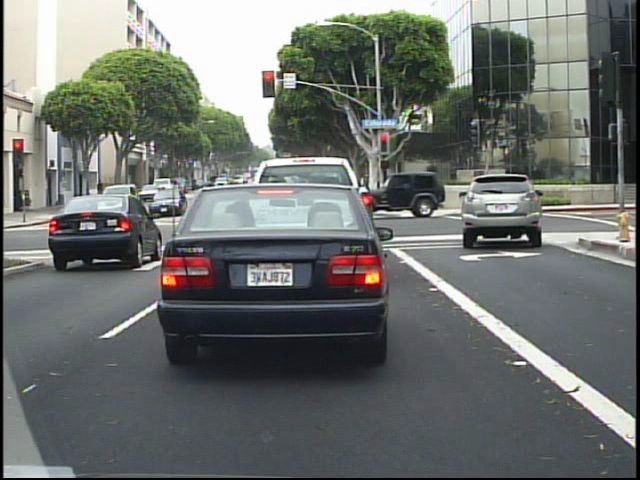person: (94, 176, 109, 207)
